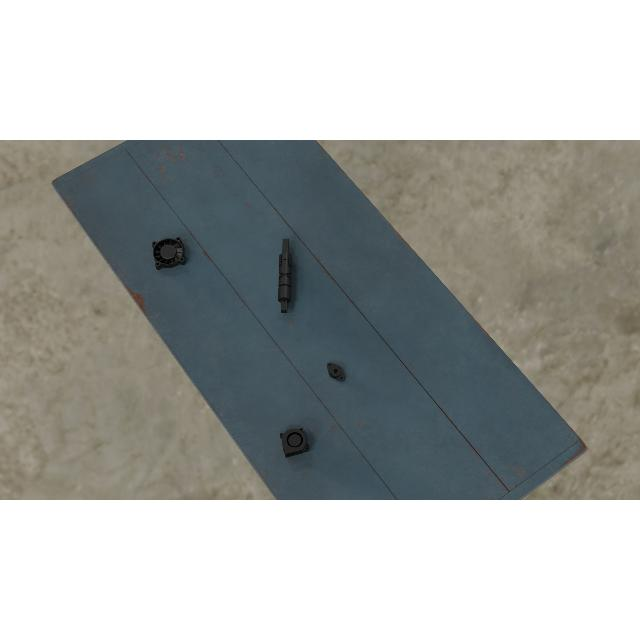Pieza1: (278, 238, 292, 314)
Pieza2: (323, 359, 349, 385)
Pieza3: (278, 426, 310, 458)
Pieza4: (152, 236, 186, 272)
